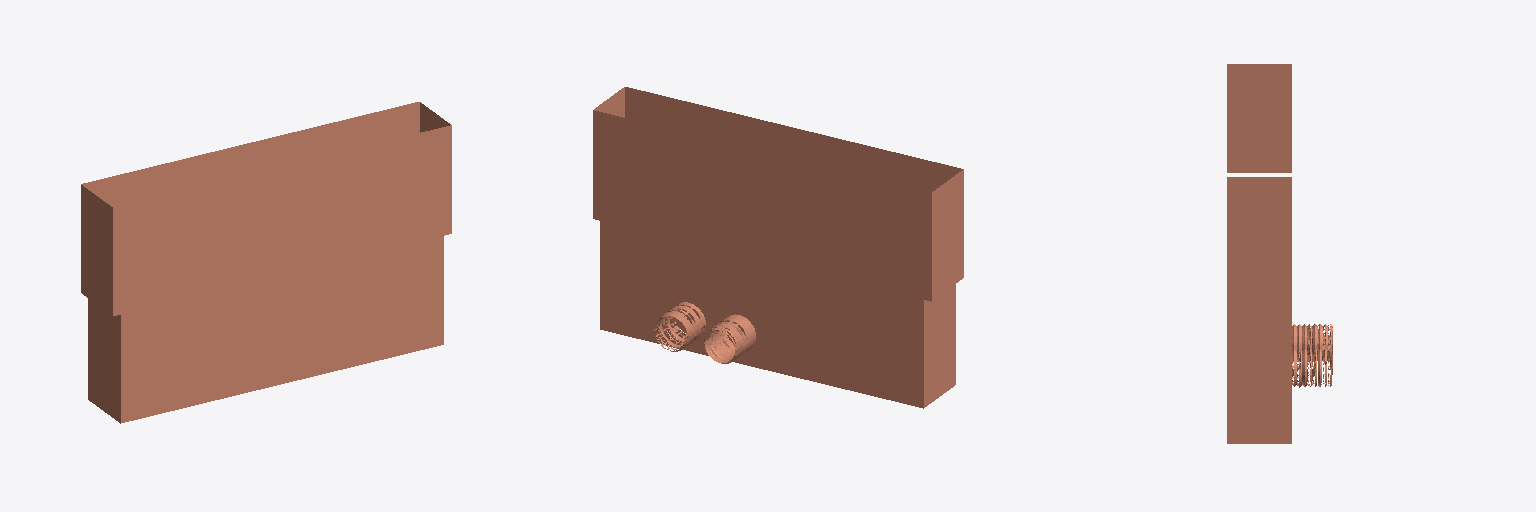
File: black.obj
3 renders of one model, left to right at view 1: azimuth 30°, elevation 25°; view 2: azimuth 150°, elevation 25°; view 3: azimuth 270°, elevation 25°, orthographic.
Visible parts, largest first — view 1: object_5; view 2: object_5; view 3: object_5.
Part boxes in pixels (bbox=[...]): object_5: bbox=[81, 102, 451, 423]; object_5: bbox=[593, 87, 963, 408]; object_5: bbox=[1227, 64, 1332, 443].
Size of the model in its own units: 44 by 27.03 by 11.86.